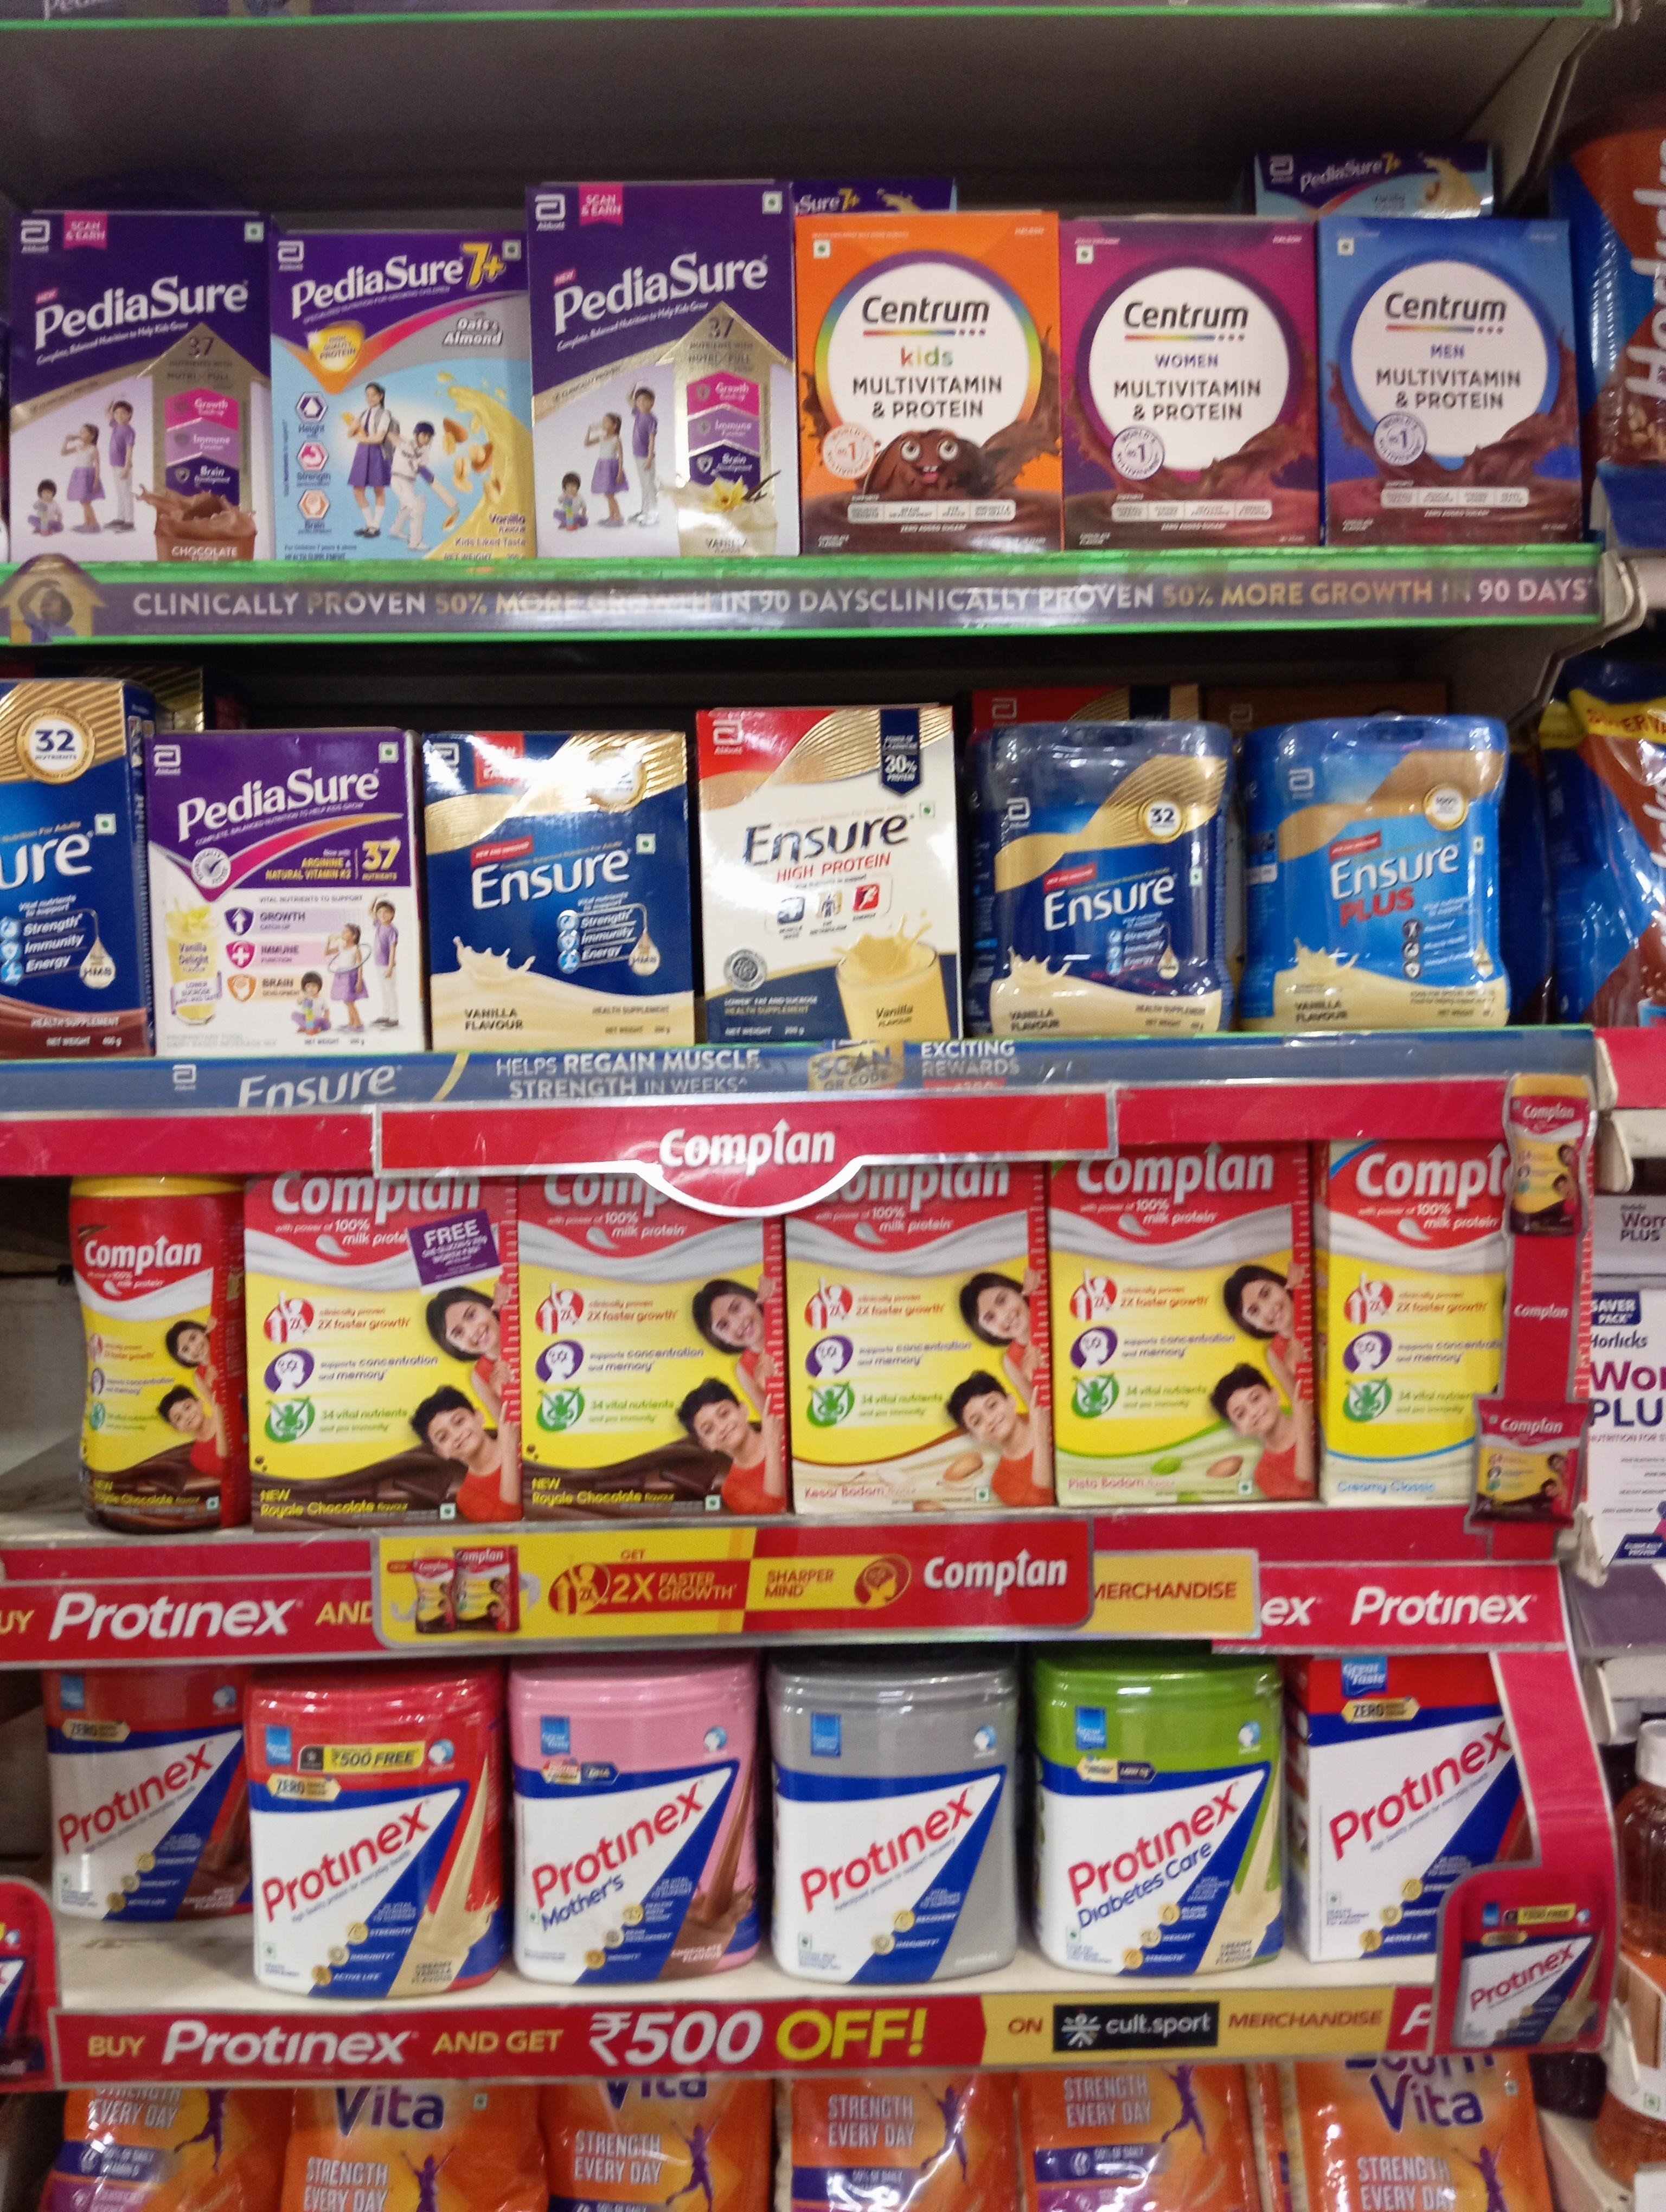COMPLAN_CHOCOLATE_500_GMS_JAR: (70, 1180, 245, 1534)
COMPLAN_CHOCOLATE_500_GMS_PACK: (250, 1177, 520, 1523), (525, 1180, 784, 1514)
COMPLAN_CREAMY_CLASSIC_500_G_PACK: (1332, 1140, 1477, 1502)
COMPLAN_KESAR_BADAM_500_GMS_PACK: (789, 1210, 1054, 1514)
COMPLAN_PISTA_BADAM_500_GMS_PACK: (1061, 1159, 1323, 1507)
ENSURE_VANILLA_400_G_PACK: (703, 706, 964, 1037), (427, 733, 696, 1046)
PEDIASURE_CHOCOLATE_500_G_PACK: (12, 210, 264, 565)
PEDIASURE_VANILLA_500_G_PACK: (535, 180, 800, 560)
PROTINEX_CHOCOLATE_400_G_JAR: (45, 1672, 243, 1923)
PROTINEX_ORIGINAL_400_G_JAR: (770, 1665, 1022, 1978)
PROTINEX_VANILLA_400_G_JAR: (254, 1682, 497, 1995)
